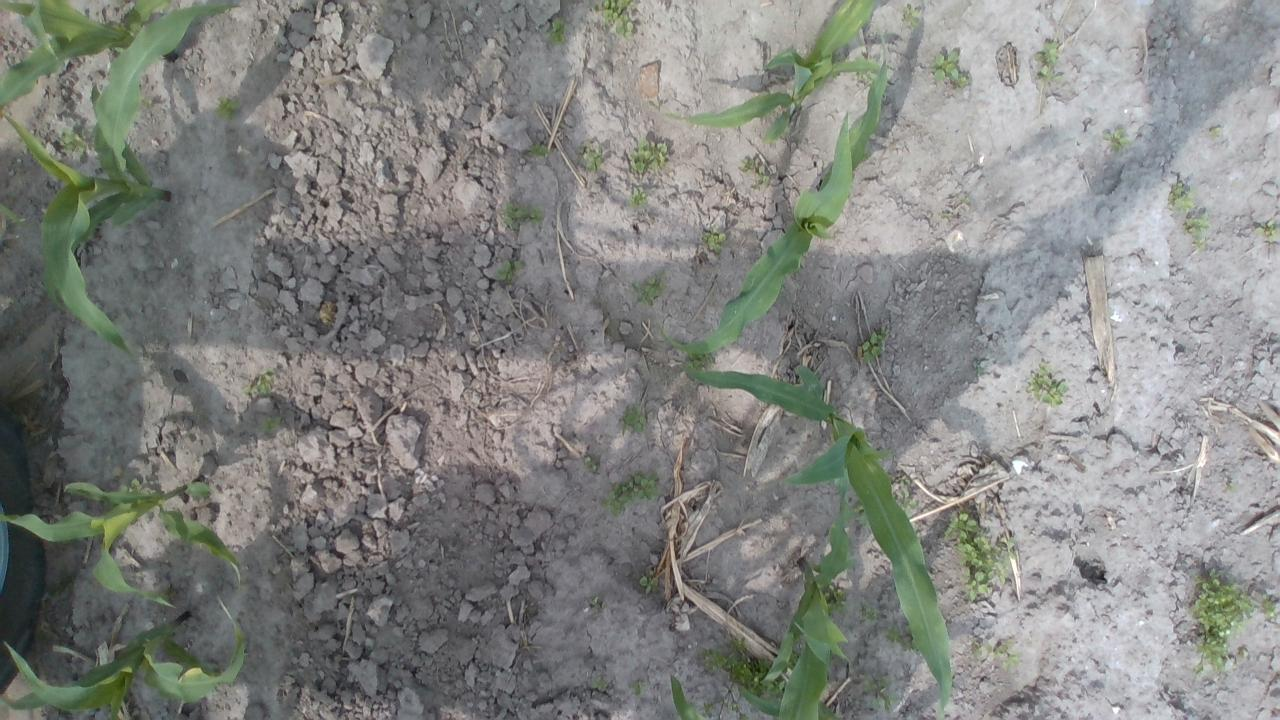Maize: (673, 356, 957, 718), (651, 58, 894, 360), (3, 74, 176, 356), (2, 1, 245, 180), (0, 472, 245, 608), (654, 1, 887, 128), (3, 602, 245, 717), (758, 474, 858, 717)
Weeds: (1194, 558, 1278, 681), (947, 502, 1020, 608), (692, 636, 758, 694), (1170, 169, 1212, 252), (602, 469, 664, 518), (969, 634, 1020, 676), (629, 136, 664, 178), (868, 674, 902, 715), (1032, 364, 1064, 406), (595, 4, 636, 36), (884, 622, 920, 656), (1039, 34, 1061, 86), (933, 52, 965, 84), (616, 404, 649, 434), (739, 154, 770, 185), (634, 275, 663, 308), (503, 200, 539, 226), (892, 478, 919, 512), (860, 328, 886, 360), (582, 144, 610, 172), (63, 126, 89, 154), (854, 594, 876, 626), (824, 584, 847, 613), (546, 12, 566, 44), (588, 671, 614, 694), (496, 255, 518, 282), (219, 96, 242, 119), (1260, 219, 1280, 244), (252, 377, 272, 399), (901, 8, 920, 30), (528, 140, 546, 162), (1106, 130, 1126, 148), (639, 574, 659, 592), (1213, 121, 1231, 140), (706, 229, 720, 253), (632, 187, 646, 207), (263, 422, 278, 440), (1227, 476, 1242, 494), (638, 683, 652, 698)
